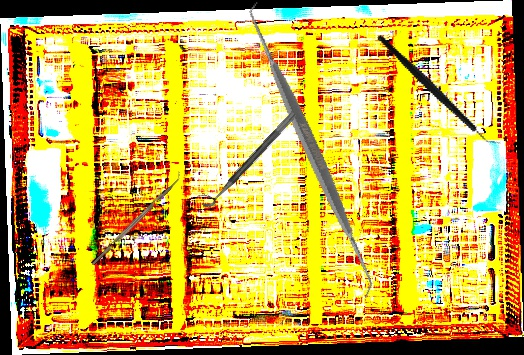Chopper: (376, 7, 503, 174), (87, 170, 185, 266)
Fixation Ring: (195, 103, 298, 212)
Spatula Surgical: (159, 0, 464, 300)
